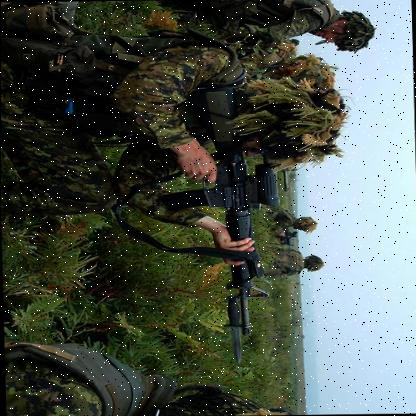rifle: (157, 90, 281, 322)
